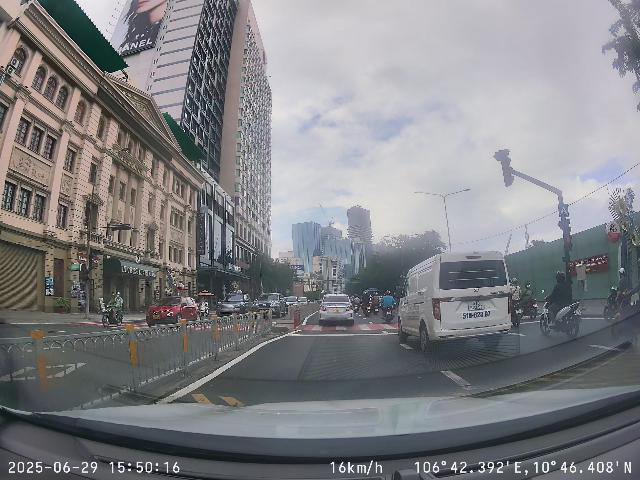423a-duong-nguoi-di-bo-sang-ngang-1: (558, 204, 569, 217)
